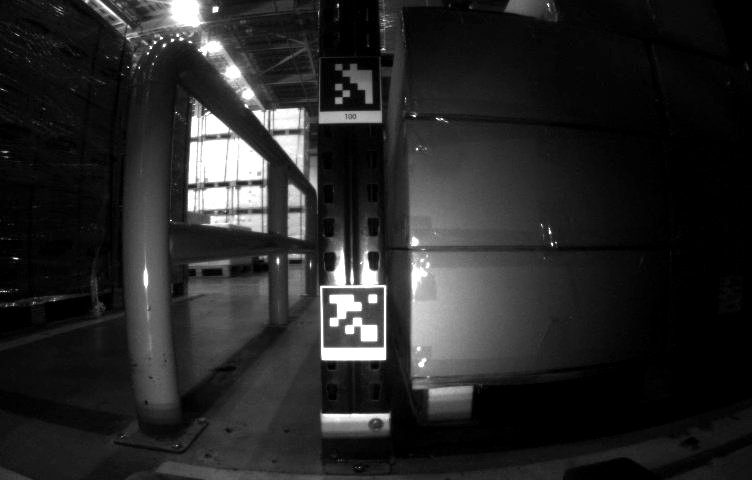True Barcode: (669, 174, 700, 212)
